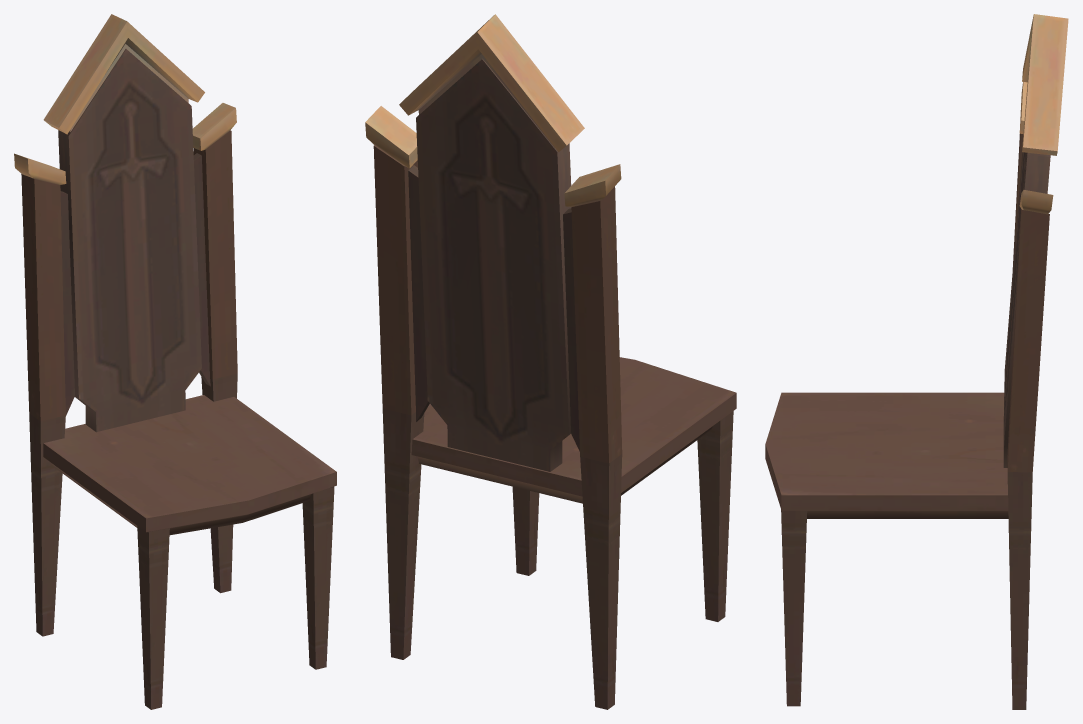
Rendered from Homeworld_Interior_Md_Chair_Chair_04_Vo.fbx.
3 views of the same model, side by side, from view 1: azimuth 30°, elevation 25°; view 2: azimuth 150°, elevation 25°; view 3: azimuth 270°, elevation 25° (orthographic). The views are drawn at different scales.
Visible parts, largest first — view 1: Homeworld_Interior_Md_Chair_Chair_04_Vo; view 2: Homeworld_Interior_Md_Chair_Chair_04_Vo; view 3: Homeworld_Interior_Md_Chair_Chair_04_Vo.
Part boxes in pixels (bbox=[...]): Homeworld_Interior_Md_Chair_Chair_04_Vo: bbox=[14, 14, 336, 709]; Homeworld_Interior_Md_Chair_Chair_04_Vo: bbox=[365, 14, 736, 709]; Homeworld_Interior_Md_Chair_Chair_04_Vo: bbox=[765, 14, 1068, 709].
Size of the model in its own units: 0.5639 by 1.51 by 0.6429.
